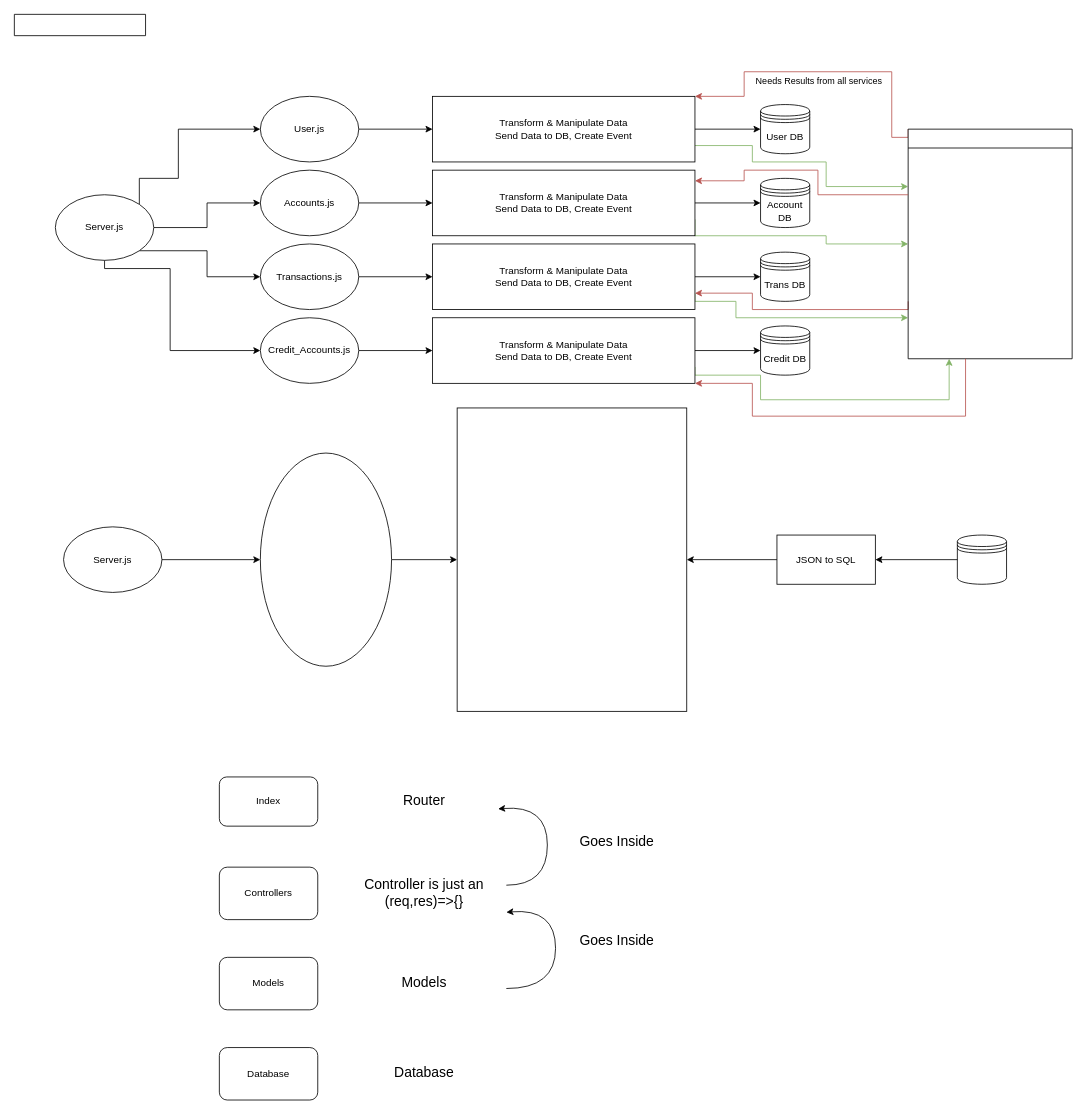
This 1087x1114 diagram has some shape labels left out. Each missing label, with the box of its shape:
DB: (957, 534, 1007, 584)
Event Broker: (907, 128, 1072, 359)
Future Implementations: (14, 14, 146, 36)
Transform Data: (456, 407, 687, 711)
Users Accounts Transactions Credit Acc: (260, 452, 392, 666)
